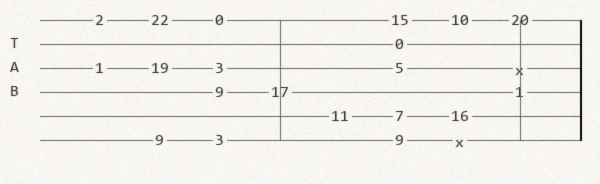0: (215, 13, 228, 27), (395, 37, 408, 51)
1: (95, 61, 108, 75), (515, 85, 528, 99)
10: (451, 13, 473, 27)
11: (331, 109, 353, 123)
15: (391, 13, 413, 27)
16: (451, 109, 473, 123)
17: (271, 85, 293, 99)
19: (151, 61, 173, 75)
2: (95, 13, 108, 27)
20: (511, 13, 533, 27)
22: (151, 13, 173, 27)
3: (215, 133, 228, 147), (215, 61, 228, 75)
5: (395, 61, 408, 75)
7: (395, 109, 408, 123)
9: (155, 133, 168, 147), (215, 85, 228, 99), (395, 133, 408, 147)
x: (455, 135, 468, 146), (515, 63, 528, 74)
